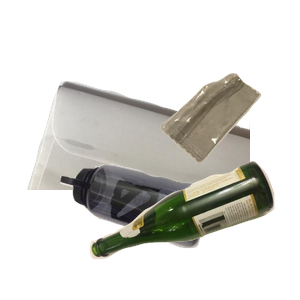glass: (87, 158, 300, 300)
paper: (25, 79, 265, 259)
plastic: (58, 162, 261, 300)
trash: (158, 71, 300, 227)
